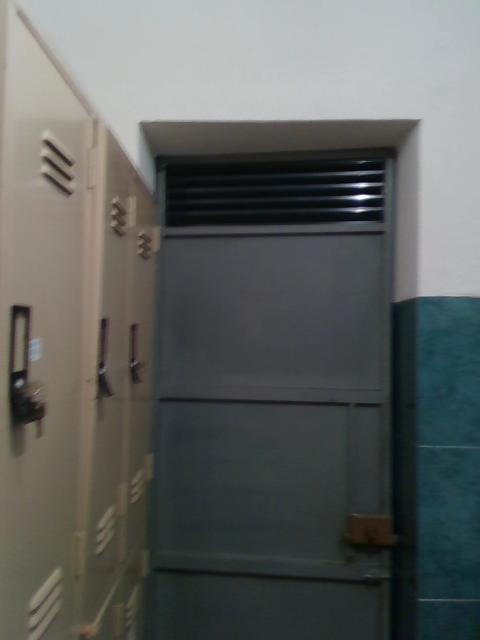door: (140, 148, 397, 640)
